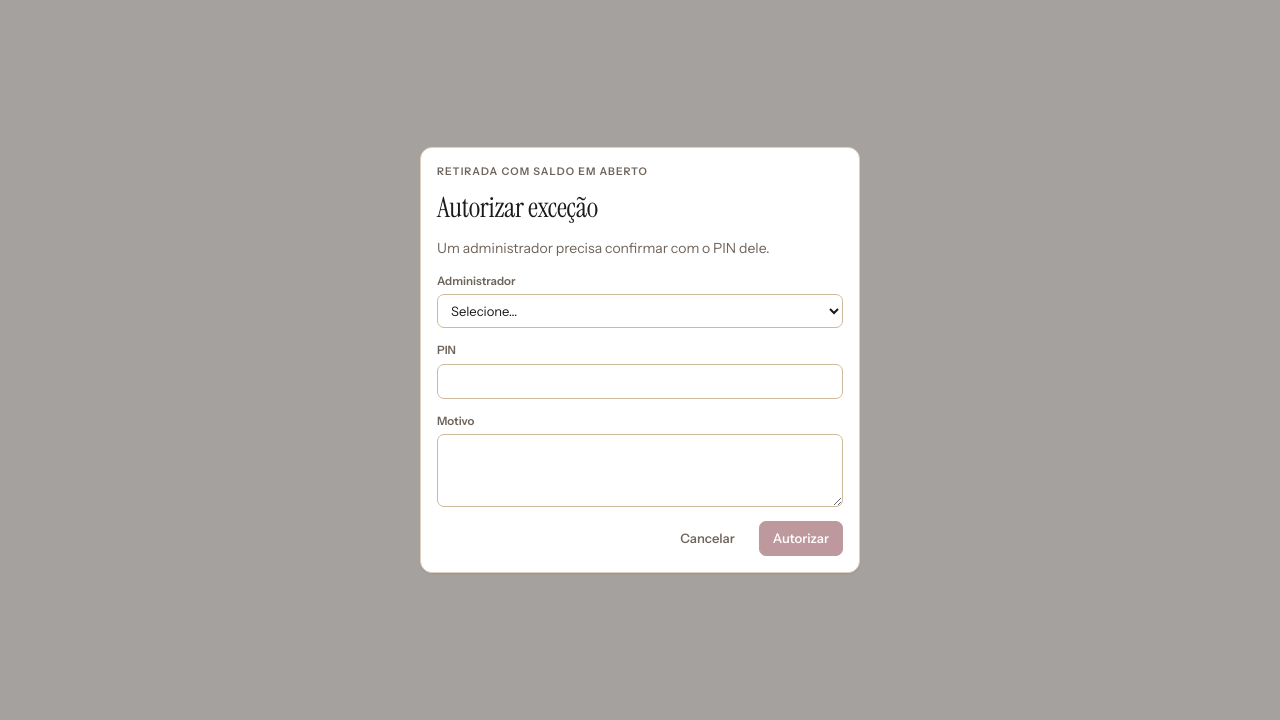
Test case: AuthorizeExceptionDialog › AUTORIZACAO_INVALIDA (retornado) → Administrador ou PIN inválido
Select "Carla Dias (carla@senzi.com.br)" in the dropdown labelled "Administrador" at (640,311), box [437,294,843,328]
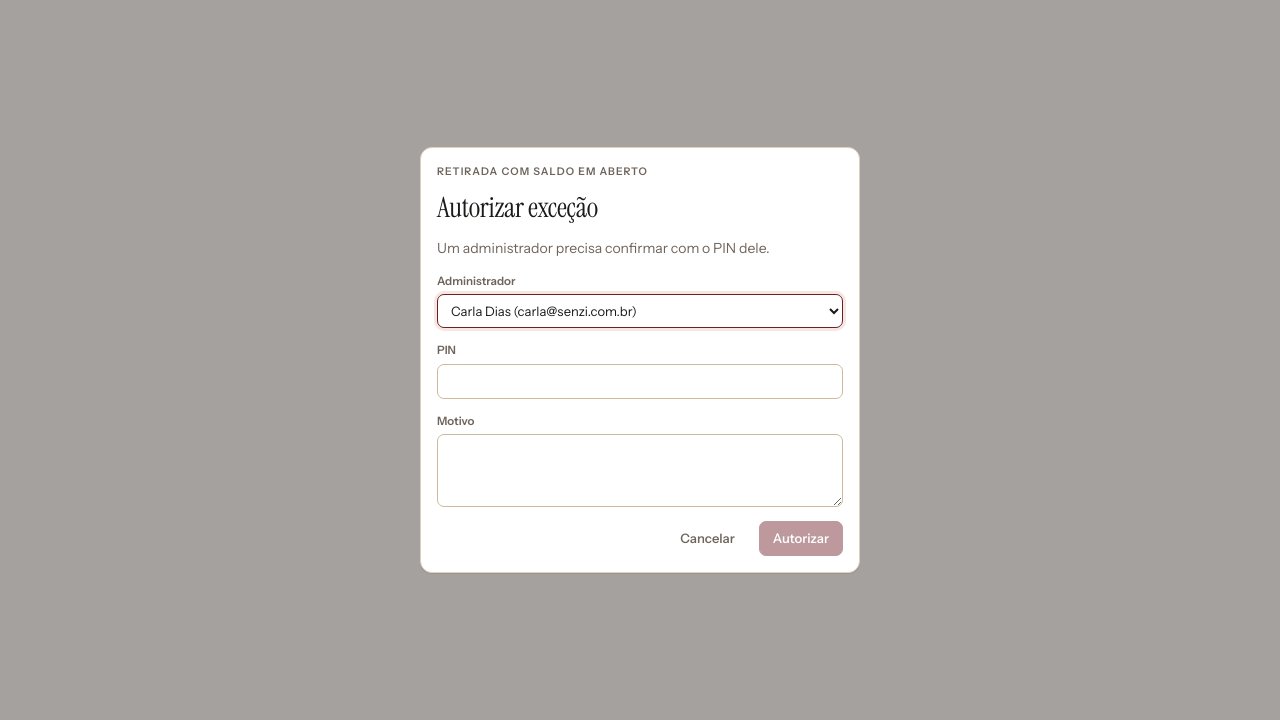
Type "4321" into the password field labelled "PIN" at (640,381), box [437,364,843,399]
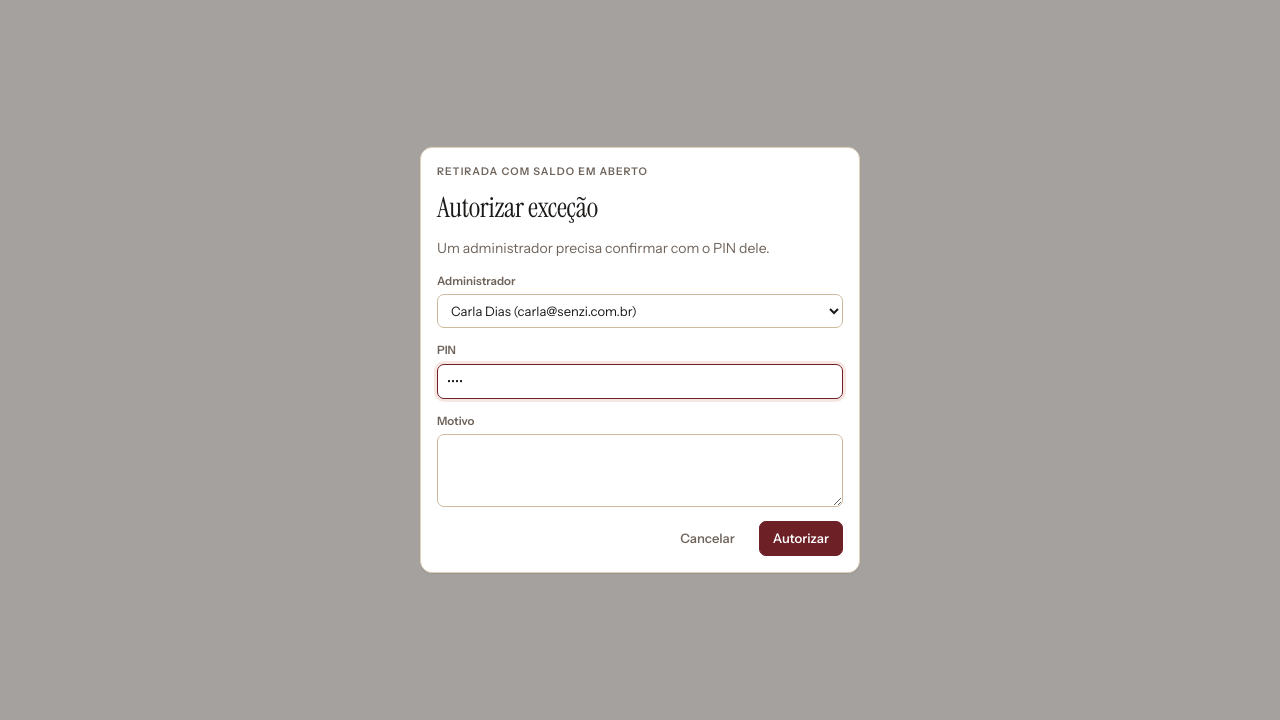
Type "Cliente antiga, paga na devolução" into the text box labelled "Motivo" at (640,471), box [437,434,843,507]
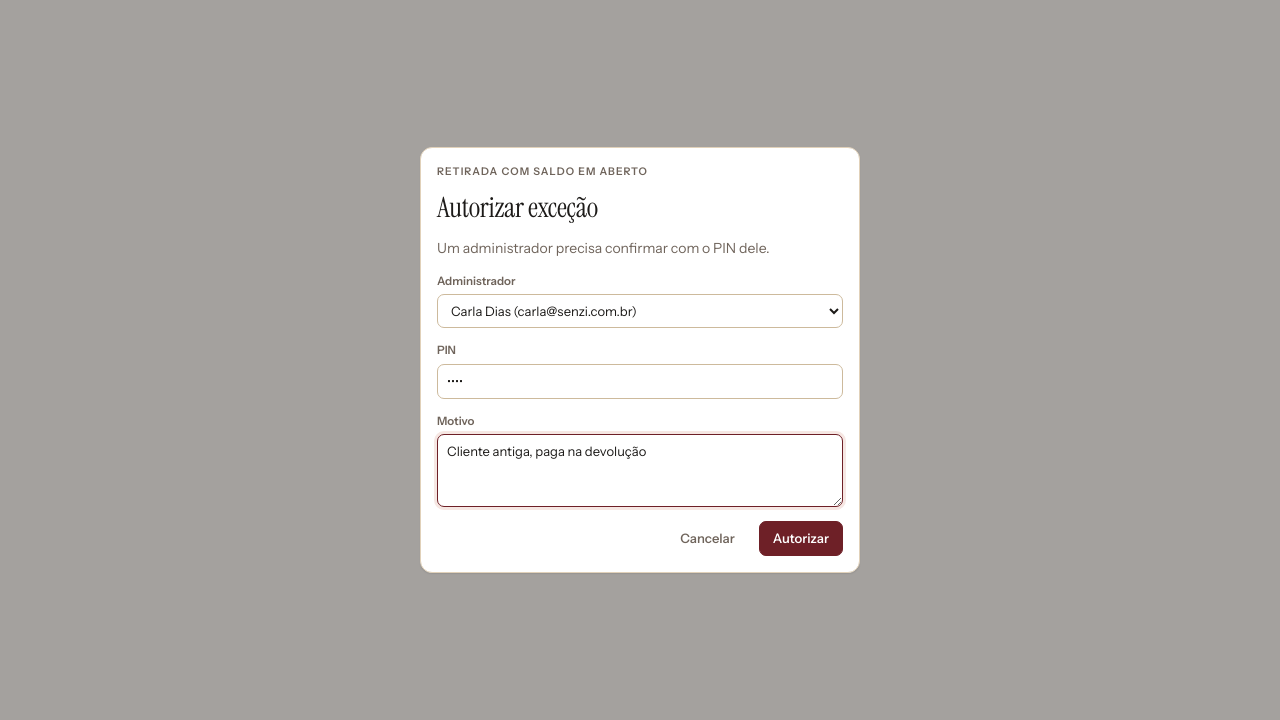
Click the button "Autorizar" at (801,539), box [759,521,843,556]
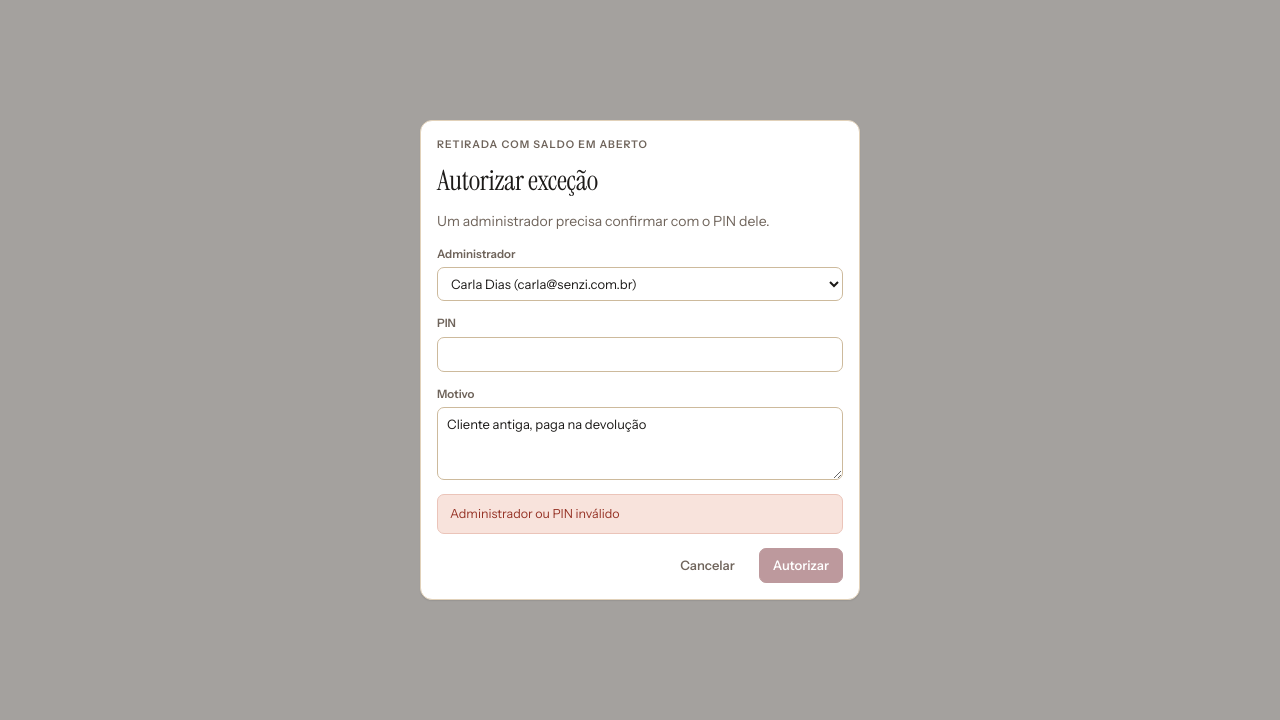
Expected: the text "Administrador ou PIN inválido" is shown, [437,494,843,534]
Expected: the password field labelled "PIN" is empty, [437,337,843,372]
